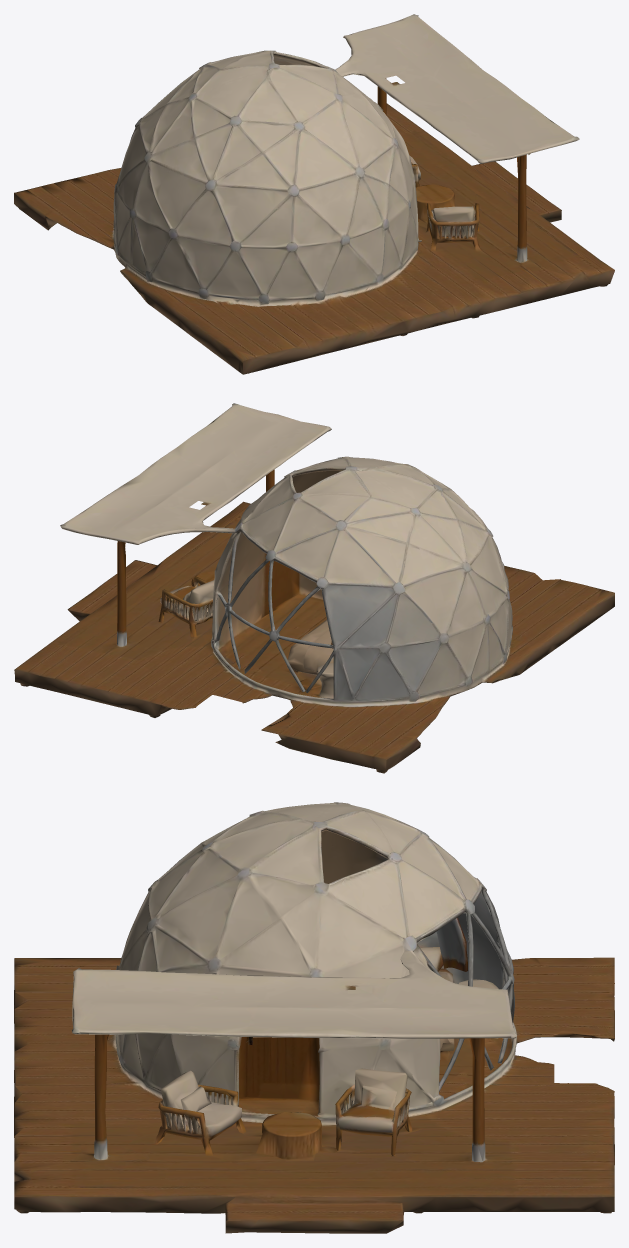
The model's file is dome.glb.
3 views of the same model, one above another, from view 1: azimuth 30°, elevation 25°; view 2: azimuth 150°, elevation 25°; view 3: azimuth 270°, elevation 25° (orthographic). The views are drawn at different scales.
Visible parts, largest first — view 1: tripo_node_b7b07c8d-8073-46c5-9f0e-a736aa98d8ef; view 2: tripo_node_b7b07c8d-8073-46c5-9f0e-a736aa98d8ef; view 3: tripo_node_b7b07c8d-8073-46c5-9f0e-a736aa98d8ef.
Boxes of the visible parts, <box> form: tripo_node_b7b07c8d-8073-46c5-9f0e-a736aa98d8ef: <box>14,14,614,374</box>; tripo_node_b7b07c8d-8073-46c5-9f0e-a736aa98d8ef: <box>14,403,614,773</box>; tripo_node_b7b07c8d-8073-46c5-9f0e-a736aa98d8ef: <box>14,802,614,1233</box>.
Bounding box in the file's own units: 1 × 0.4547 × 0.9928.
1 material, 1 textured.
